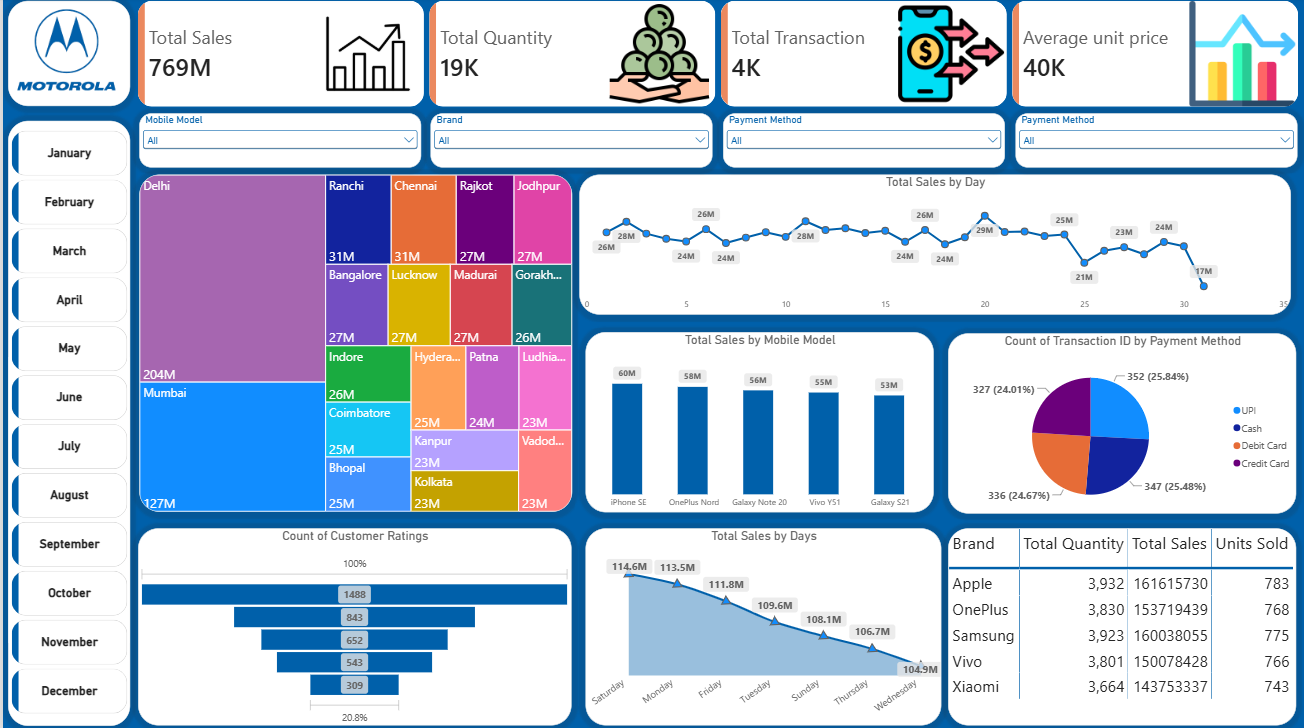

Layout of this report page (visuals, bound fields, positions):
{"tool":"powerbi","page":{"name":"Page 1","canvas":[1920,1080],"ordinal":0},"visuals":[{"type":"shape","box":[7.2,6.1,180,155.6],"z":0},{"type":"image","box":[7.2,6.1,172.2,145],"z":1000},{"type":"shape","box":[7.6,181.6,180,891.4],"z":2000},{"type":"advancedSlicerVisual","fields":{"Values":["mobile_sales_data.Date.Variation.Date Hierarchy.Month"]},"box":[13.3,196.7,170,860],"z":3000},{"type":"cardVisual","fields":{"Data":["mobile_sales_data.Total Sales","mobile_sales_data.Total Quantity","mobile_sales_data.Total Transaction","mobile_sales_data.Average unit price"]},"box":[198,6,1708,156],"z":4000},{"type":"treemap","fields":{"Group":["mobile_sales_data.City"],"Values":["mobile_sales_data.Total Sales"]},"box":[200,262,637.7,497.1],"z":5000},{"type":"lineChart","fields":{"Category":["mobile_sales_data.Date.Variation.Date Hierarchy.Month","mobile_sales_data.Date.Variation.Date Hierarchy.Day"],"Y":["mobile_sales_data.Total Sales"]},"box":[848,262,1048,206],"z":6000},{"type":"clusteredColumnChart","fields":{"Category":["mobile_sales_data.Mobile Model"],"Y":["mobile_sales_data.Total Sales"]},"box":[858,494,513,265.2],"z":7000},{"type":"pieChart","fields":{"Category":["mobile_sales_data.Payment Method"],"Y":["CountNonNull(mobile_sales_data.Transaction ID)"]},"box":[1392,496,513,265.2],"z":7001},{"type":"funnel","title":"Count of Customer Ratings","fields":{"Category":["mobile_sales_data.Customer Ratings"],"Y":["CountNonNull(mobile_sales_data.Customer Ratings)"]},"box":[198,782,638,290],"z":7002},{"type":"areaChart","title":"Total Sales by Days","fields":{"Category":["mobile_sales_data.Day Name"],"Y":["mobile_sales_data.Total Sales"]},"box":[858,782,524,290],"z":7003},{"type":"tableEx","fields":{"Values":["mobile_sales_data.Brand","mobile_sales_data.Total Quantity","mobile_sales_data.Total Sales","CountNonNull(mobile_sales_data.Units Sold)"]},"box":[1392,782,513,290],"z":7004},{"type":"slicer","fields":{"Values":["mobile_sales_data.Mobile Model"]},"box":[200,171.2,415.3,79.7],"z":7005},{"type":"slicer","fields":{"Values":["mobile_sales_data.Payment Method"]},"box":[1060,171.7,415.3,79.7],"z":7006},{"type":"slicer","fields":{"Values":["mobile_sales_data.Brand"]},"box":[630,171.7,415.3,79.7],"z":7007},{"type":"slicer","fields":{"Values":["mobile_sales_data.Payment Method"]},"box":[1490,171.7,415.3,79.7],"z":7008}]}

Visuals, with their boxes in screenshot pixels (x1, y1, x2, y2), scaled from the page's 1920x1080 canvas onto the 1304x728 screenshot:
shape: <box>5,4,127,109</box>
image: <box>5,4,122,102</box>
shape: <box>5,122,127,723</box>
advancedSlicerVisual - mobile_sales_data.Date.Variation.Date Hierarchy.Month: <box>9,133,124,712</box>
cardVisual - mobile_sales_data.Total Sales x mobile_sales_data.Total Quantity: <box>134,4,1294,109</box>
treemap - mobile_sales_data.City x mobile_sales_data.Total Sales: <box>136,177,569,512</box>
lineChart - mobile_sales_data.Date.Variation.Date Hierarchy.Month x mobile_sales_data.Date.Variation.Date Hierarchy.Day: <box>576,177,1288,315</box>
clusteredColumnChart - mobile_sales_data.Mobile Model x mobile_sales_data.Total Sales: <box>583,333,931,512</box>
pieChart - mobile_sales_data.Payment Method x CountNonNull(mobile_sales_data.Transaction ID): <box>945,334,1294,513</box>
"Count of Customer Ratings" funnel: <box>134,527,568,723</box>
"Total Sales by Days" areaChart: <box>583,527,939,723</box>
tableEx - mobile_sales_data.Brand x mobile_sales_data.Total Quantity: <box>945,527,1294,723</box>
slicer - mobile_sales_data.Mobile Model: <box>136,115,418,169</box>
slicer - mobile_sales_data.Payment Method: <box>720,116,1002,169</box>
slicer - mobile_sales_data.Brand: <box>428,116,710,169</box>
slicer - mobile_sales_data.Payment Method: <box>1012,116,1294,169</box>
